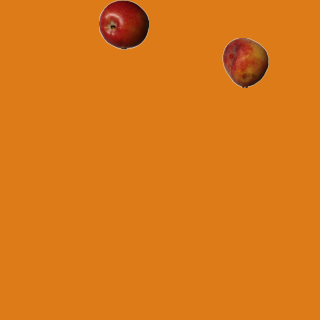Apple Braeburn: (98, 0, 148, 49)
Peach: (220, 37, 270, 87)
